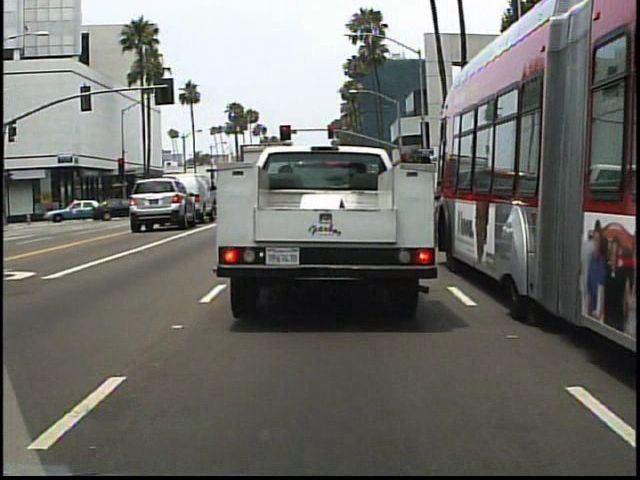person: (48, 197, 53, 226)
